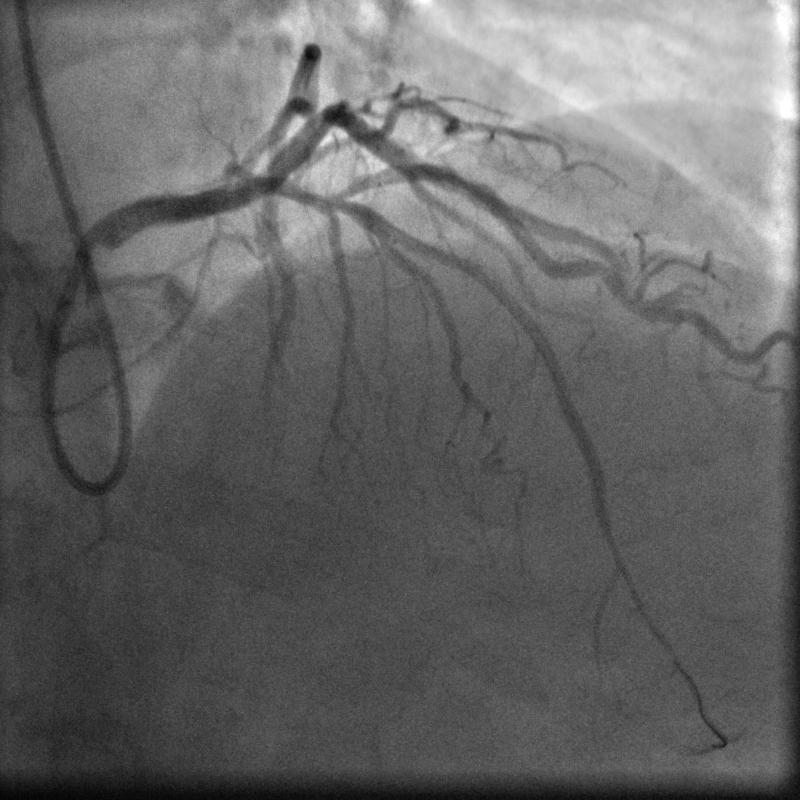Stenosis: (440, 161, 492, 201)
